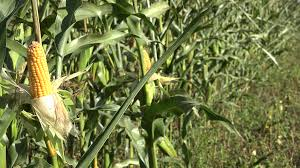Corn: (13, 29, 81, 149)
